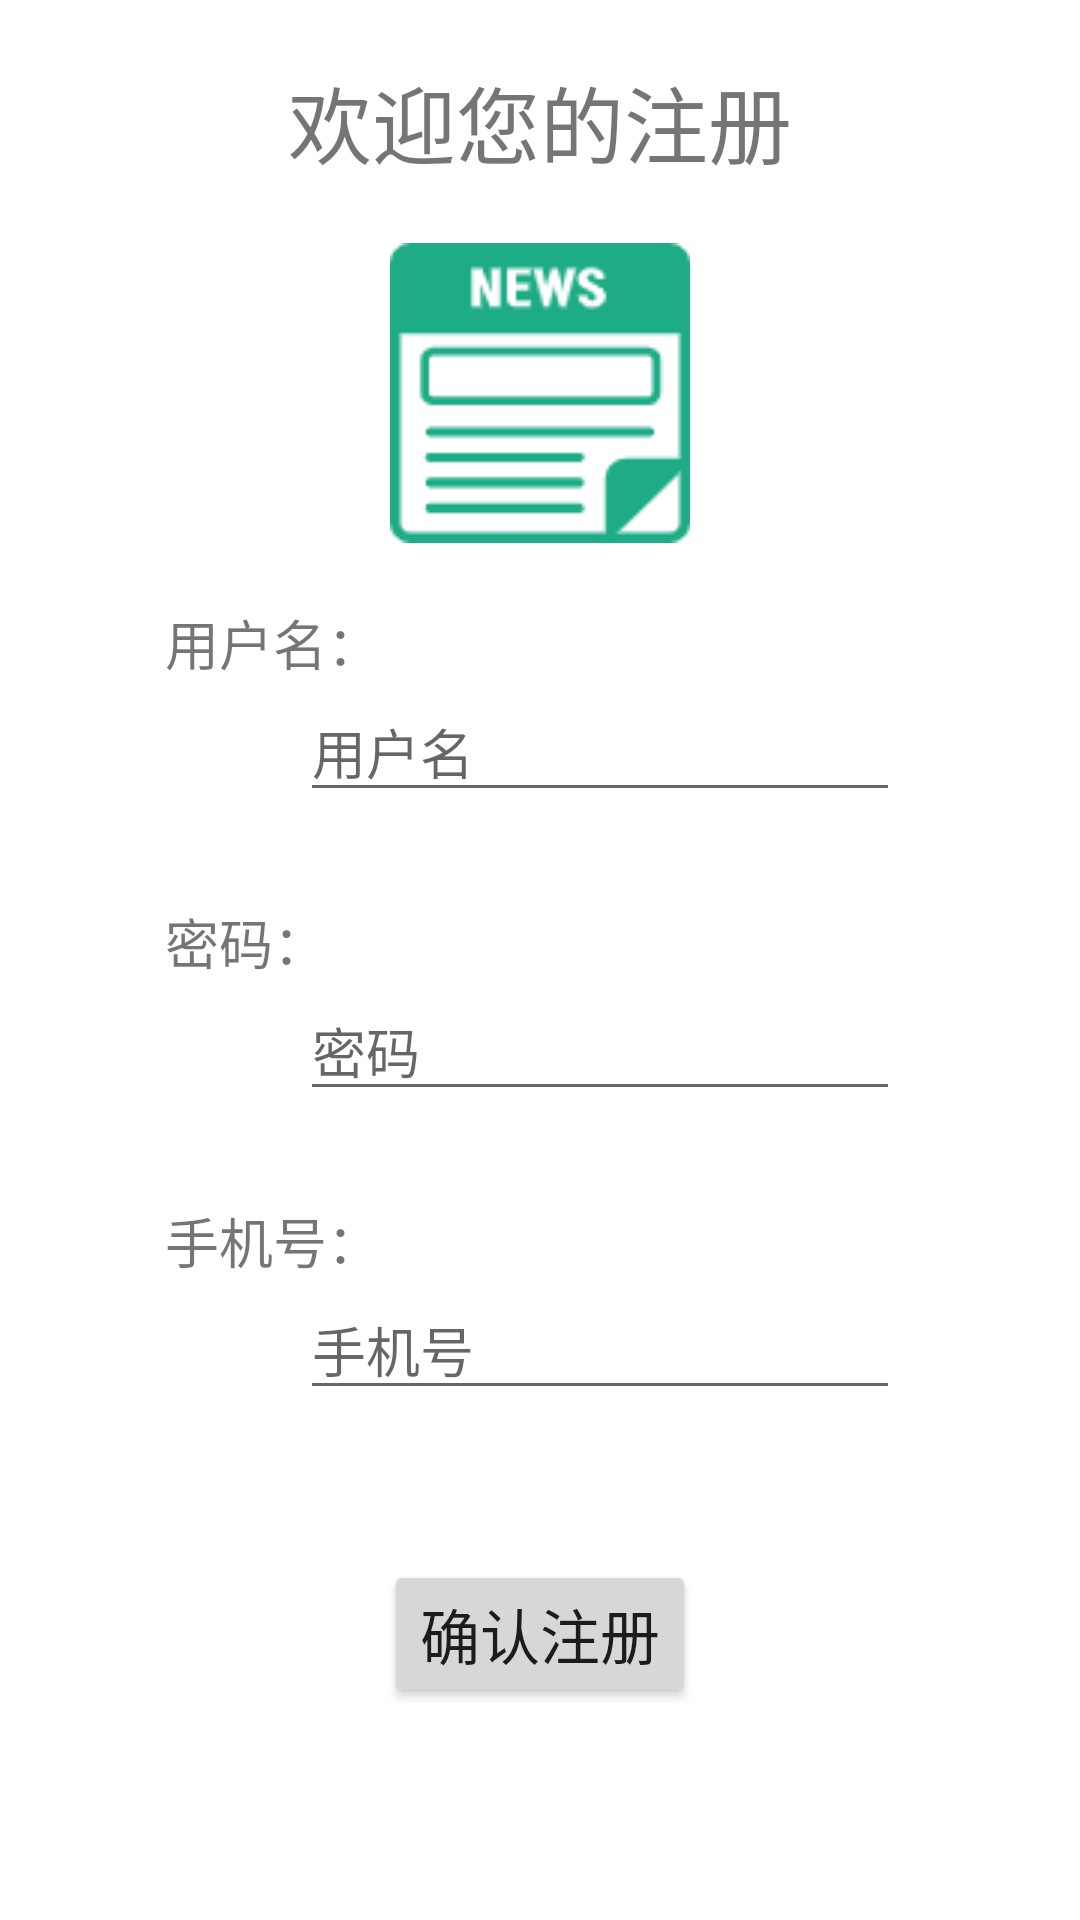

Screen size 1080x1920. Icon name, then its center in pixels as (x=x, y=y):
app: (x=540, y=393)
